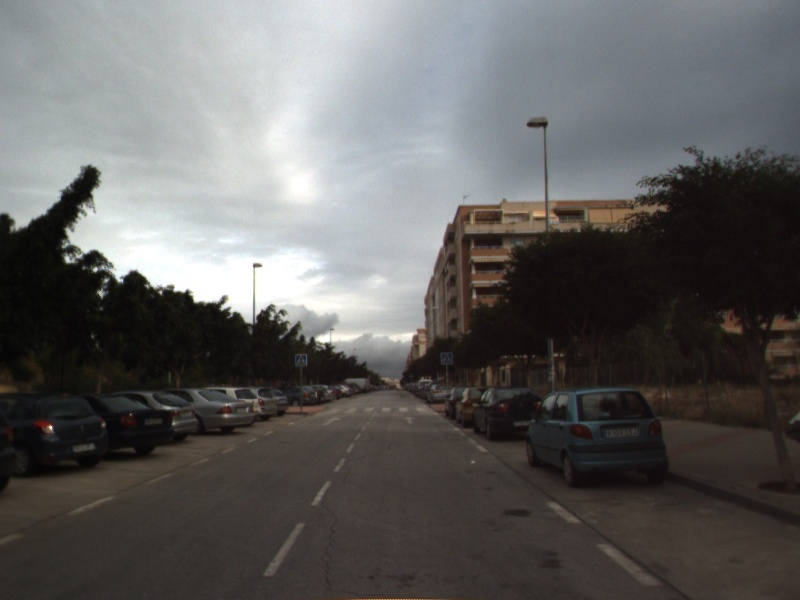STRAIGHT: (321, 414, 344, 427), (400, 414, 419, 426)
